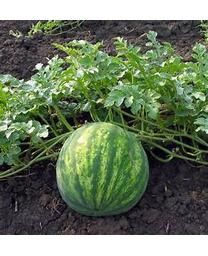watermelon: (56, 121, 150, 217)
